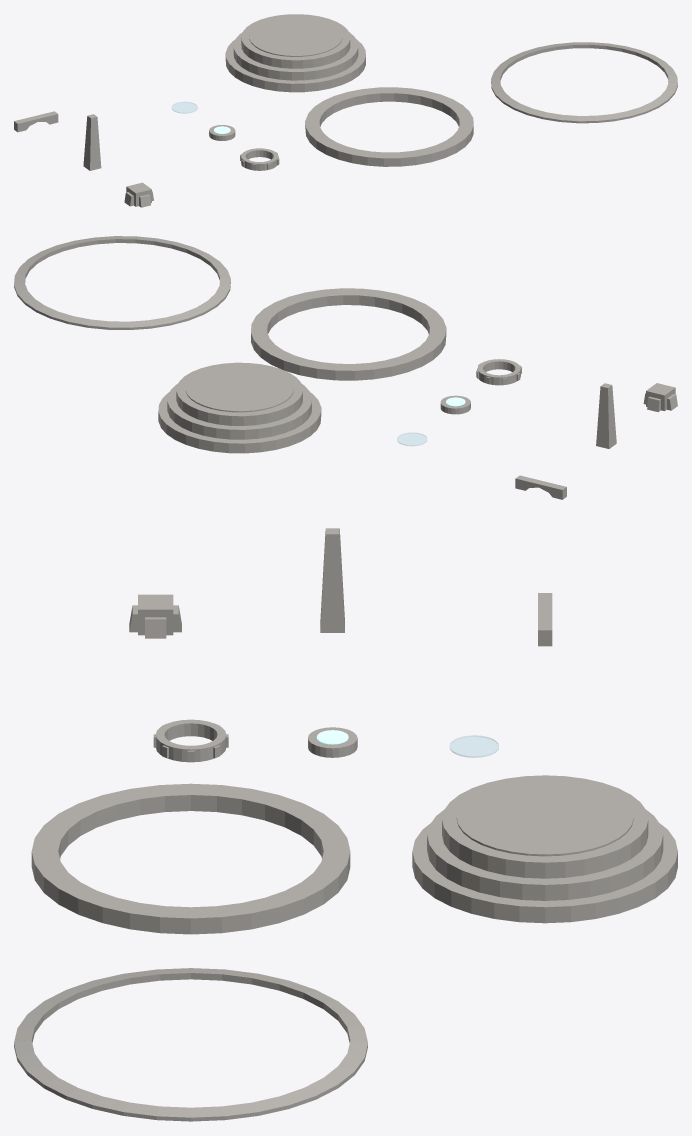
The model's file is 부화터_파츠.glb.
3 renders of one model, top to bottom at view 1: azimuth 30°, elevation 25°; view 2: azimuth 150°, elevation 25°; view 3: azimuth 270°, elevation 25°, orthographic. The views are drawn at different scales.
Parts seen in each view (by area): view 1: 계단받침, 중간받침, 기초링, 기둥, 코어하우징, 외곽지지대, 상인방빔, 발광코어; view 2: 계단받침, 중간받침, 기초링, 기둥, 코어하우징, 외곽지지대, 상인방빔, 발광코어; view 3: 계단받침, 중간받침, 기초링, 코어하우징, 기둥, 외곽지지대, 발광코어, Cylinder.
Boxes of the visible parts, bbox=[...] form: 계단받침: bbox=[225, 14, 365, 92]; 중간받침: bbox=[305, 87, 473, 166]; 기초링: bbox=[491, 42, 677, 123]; 기둥: bbox=[83, 114, 101, 170]; 코어하우징: bbox=[240, 148, 279, 170]; 외곽지지대: bbox=[124, 182, 153, 207]; 상인방빔: bbox=[14, 111, 58, 132]; 발광코어: bbox=[209, 125, 235, 140]; 계단받침: bbox=[158, 362, 321, 453]; 중간받침: bbox=[251, 288, 446, 380]; 기초링: bbox=[14, 236, 230, 329]; 기둥: bbox=[596, 383, 616, 448]; 코어하우징: bbox=[476, 359, 521, 385]; 외곽지지대: bbox=[643, 383, 677, 412]; 상인방빔: bbox=[515, 475, 566, 499]; 발광코어: bbox=[440, 395, 470, 414]; 계단받침: bbox=[412, 775, 677, 923]; 중간받침: bbox=[31, 783, 350, 934]; 기초링: bbox=[14, 968, 367, 1121]; 코어하우징: bbox=[153, 719, 228, 762]; 기둥: bbox=[320, 528, 344, 632]; 외곽지지대: bbox=[129, 594, 181, 638]; 발광코어: bbox=[308, 727, 357, 757]; Cylinder: bbox=[449, 735, 498, 757].
Bounding box in the file's own units: 34.25 × 3 × 18.75.
